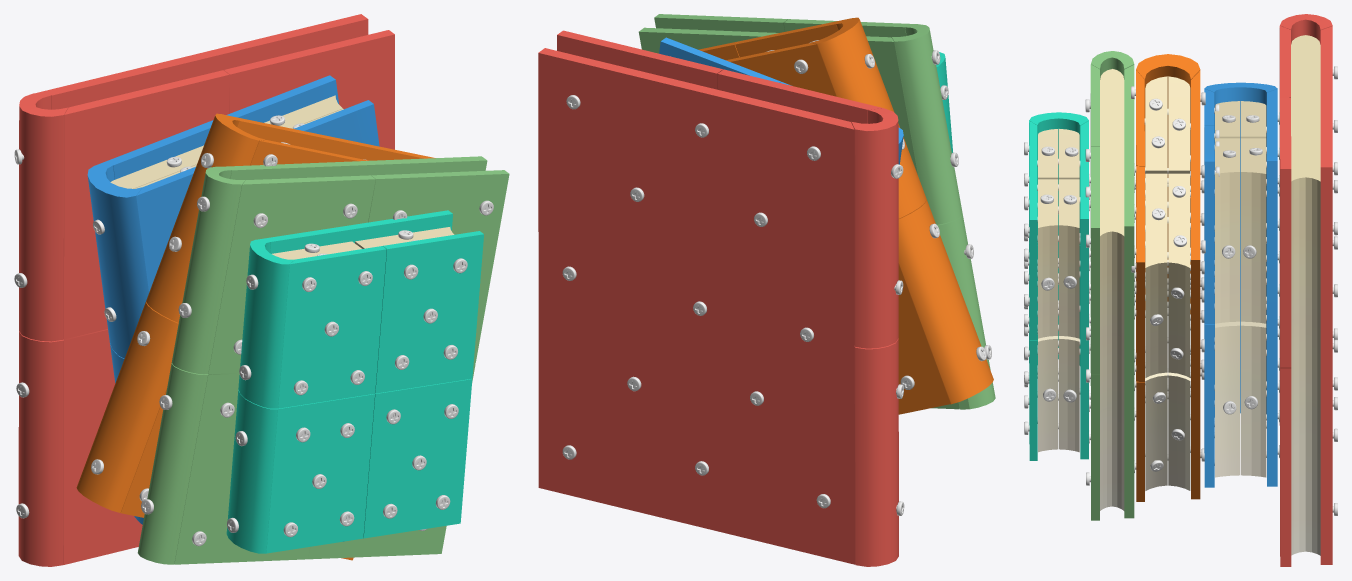
File: Level_65 1.fbx
3 renders of one model, left to right at view 1: azimuth 30°, elevation 25°; view 2: azimuth 150°, elevation 25°; view 3: azimuth 270°, elevation 25°, orthographic. The views are drawn at different scales.
Visible parts, largest first — view 1: Cube_L1 65, Cube_L1 8.002, Cube_L1 6.002, Cube_L1 2.002, Cube_L1 4.002, Cube_L1 61, Cube_L1 7.002, Cube_L1 60, Cube_L1 64, Cube_L1 30.002, Cube_L1 66, Cube_L1 5.002 (+21 smaller); view 2: Cube_L1 62, Cube_L1 61, Cube_L1 60, Cube_L1 30.002, Cube_L1 13.002, Cube_L1 32.002, Cube_L1 31.002, Cube_L1 1.002, Cube_L1 66, Cube_L1 65, Cube_L1 11.002, Cube_L1 9.002 (+3 smaller); view 3: Cube_L1 62, Cube_L1 1.002, Cube_L1 58, Cube_L1 59, Cube_L1 44.001, Cube_L1 47.001, Cube_L1 32.002, Cube_L1 43.001, Cube_L1 73, Cube_L1 54, Cube_L1 57, Cube_L1 74 (+42 smaller).
Part boxes in pixels (<box>): Cube_L1 65: <box>64,70,229,339</box>; Cube_L1 8.002: <box>375,231,483,393</box>; Cube_L1 6.002: <box>278,246,386,408</box>; Cube_L1 2.002: <box>363,378,472,538</box>; Cube_L1 4.002: <box>266,394,374,553</box>; Cube_L1 61: <box>19,93,67,341</box>; Cube_L1 7.002: <box>208,175,375,374</box>; Cube_L1 60: <box>18,331,63,566</box>; Cube_L1 64: <box>63,329,142,564</box>; Cube_L1 30.002: <box>76,302,178,512</box>; Cube_L1 66: <box>224,30,394,149</box>; Cube_L1 5.002: <box>174,373,309,564</box>; Cube_L1 62: <box>538,48,854,564</box>; Cube_L1 61: <box>851,108,898,348</box>; Cube_L1 60: <box>854,338,898,566</box>; Cube_L1 30.002: <box>898,199,993,404</box>; Cube_L1 13.002: <box>892,24,962,224</box>; Cube_L1 32.002: <box>726,43,950,414</box>; Cube_L1 31.002: <box>811,17,926,218</box>; Cube_L1 1.002: <box>638,27,959,409</box>; Cube_L1 66: <box>557,30,722,89</box>; Cube_L1 65: <box>717,69,883,123</box>; Cube_L1 11.002: <box>937,214,995,409</box>; Cube_L1 9.002: <box>654,14,788,32</box>; Cube_L1 62: <box>1320,26,1332,564</box>; Cube_L1 1.002: <box>1124,65,1134,518</box>; Cube_L1 58: <box>1241,138,1266,323</box>; Cube_L1 59: <box>1215,138,1240,323</box>; Cube_L1 44.001: <box>1145,173,1167,377</box>; Cube_L1 47.001: <box>1267,89,1277,486</box>; Cube_L1 32.002: <box>1191,70,1200,499</box>; Cube_L1 43.001: <box>1168,173,1190,377</box>; Cube_L1 73: <box>1305,110,1320,368</box>; Cube_L1 54: <box>1215,321,1240,477</box>; Cube_L1 57: <box>1241,321,1266,477</box>; Cube_L1 74: <box>1291,110,1305,368</box>.
Size of the model in its own units: 10.47 by 11.92 by 8.25.
